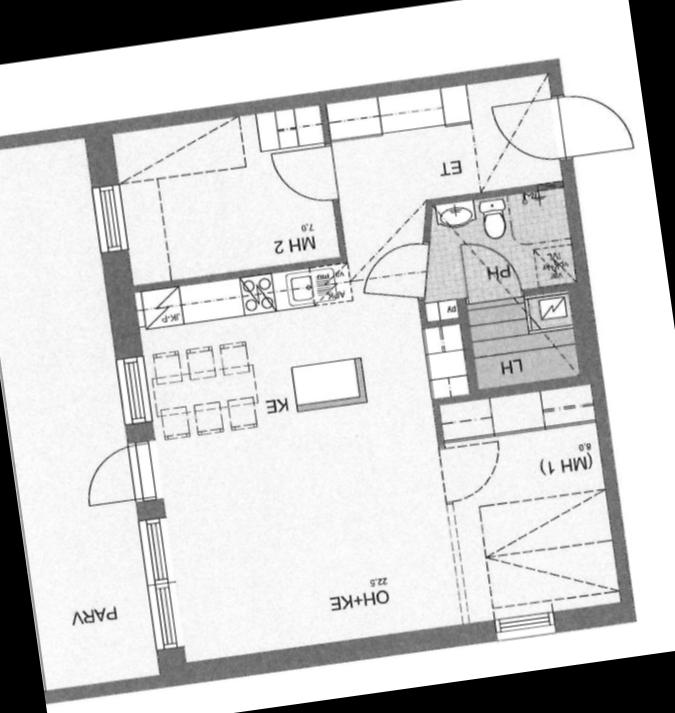door: (544, 72, 636, 163), (488, 91, 568, 172), (73, 438, 157, 512), (354, 235, 441, 303), (435, 432, 509, 509), (265, 142, 342, 214)
window: (130, 506, 192, 657), (86, 174, 134, 264), (107, 350, 158, 434), (488, 604, 562, 642)
